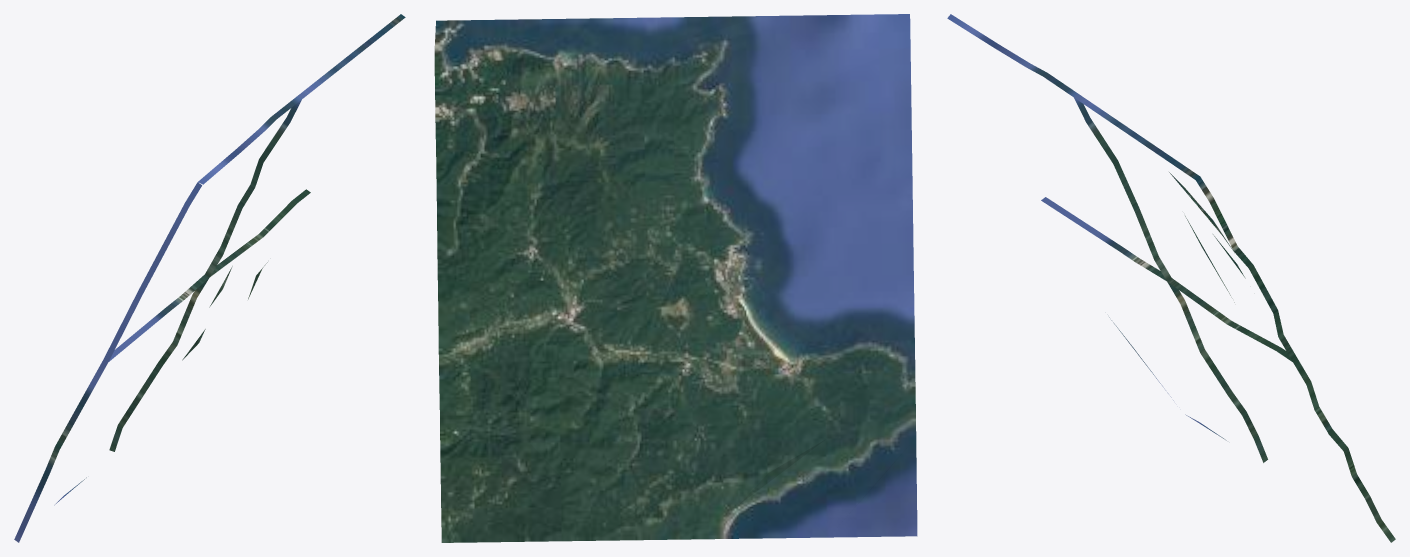
The picture shows the model from 3 angles, left to right: view 1: azimuth 30°, elevation 25°; view 2: azimuth 150°, elevation 25°; view 3: azimuth 270°, elevation 25°; orthographic projection. The views are drawn at different scales.
Size of the model in its own units: 19534 by 17929 by 17290.
Materials: 1 (1 with a texture image).
